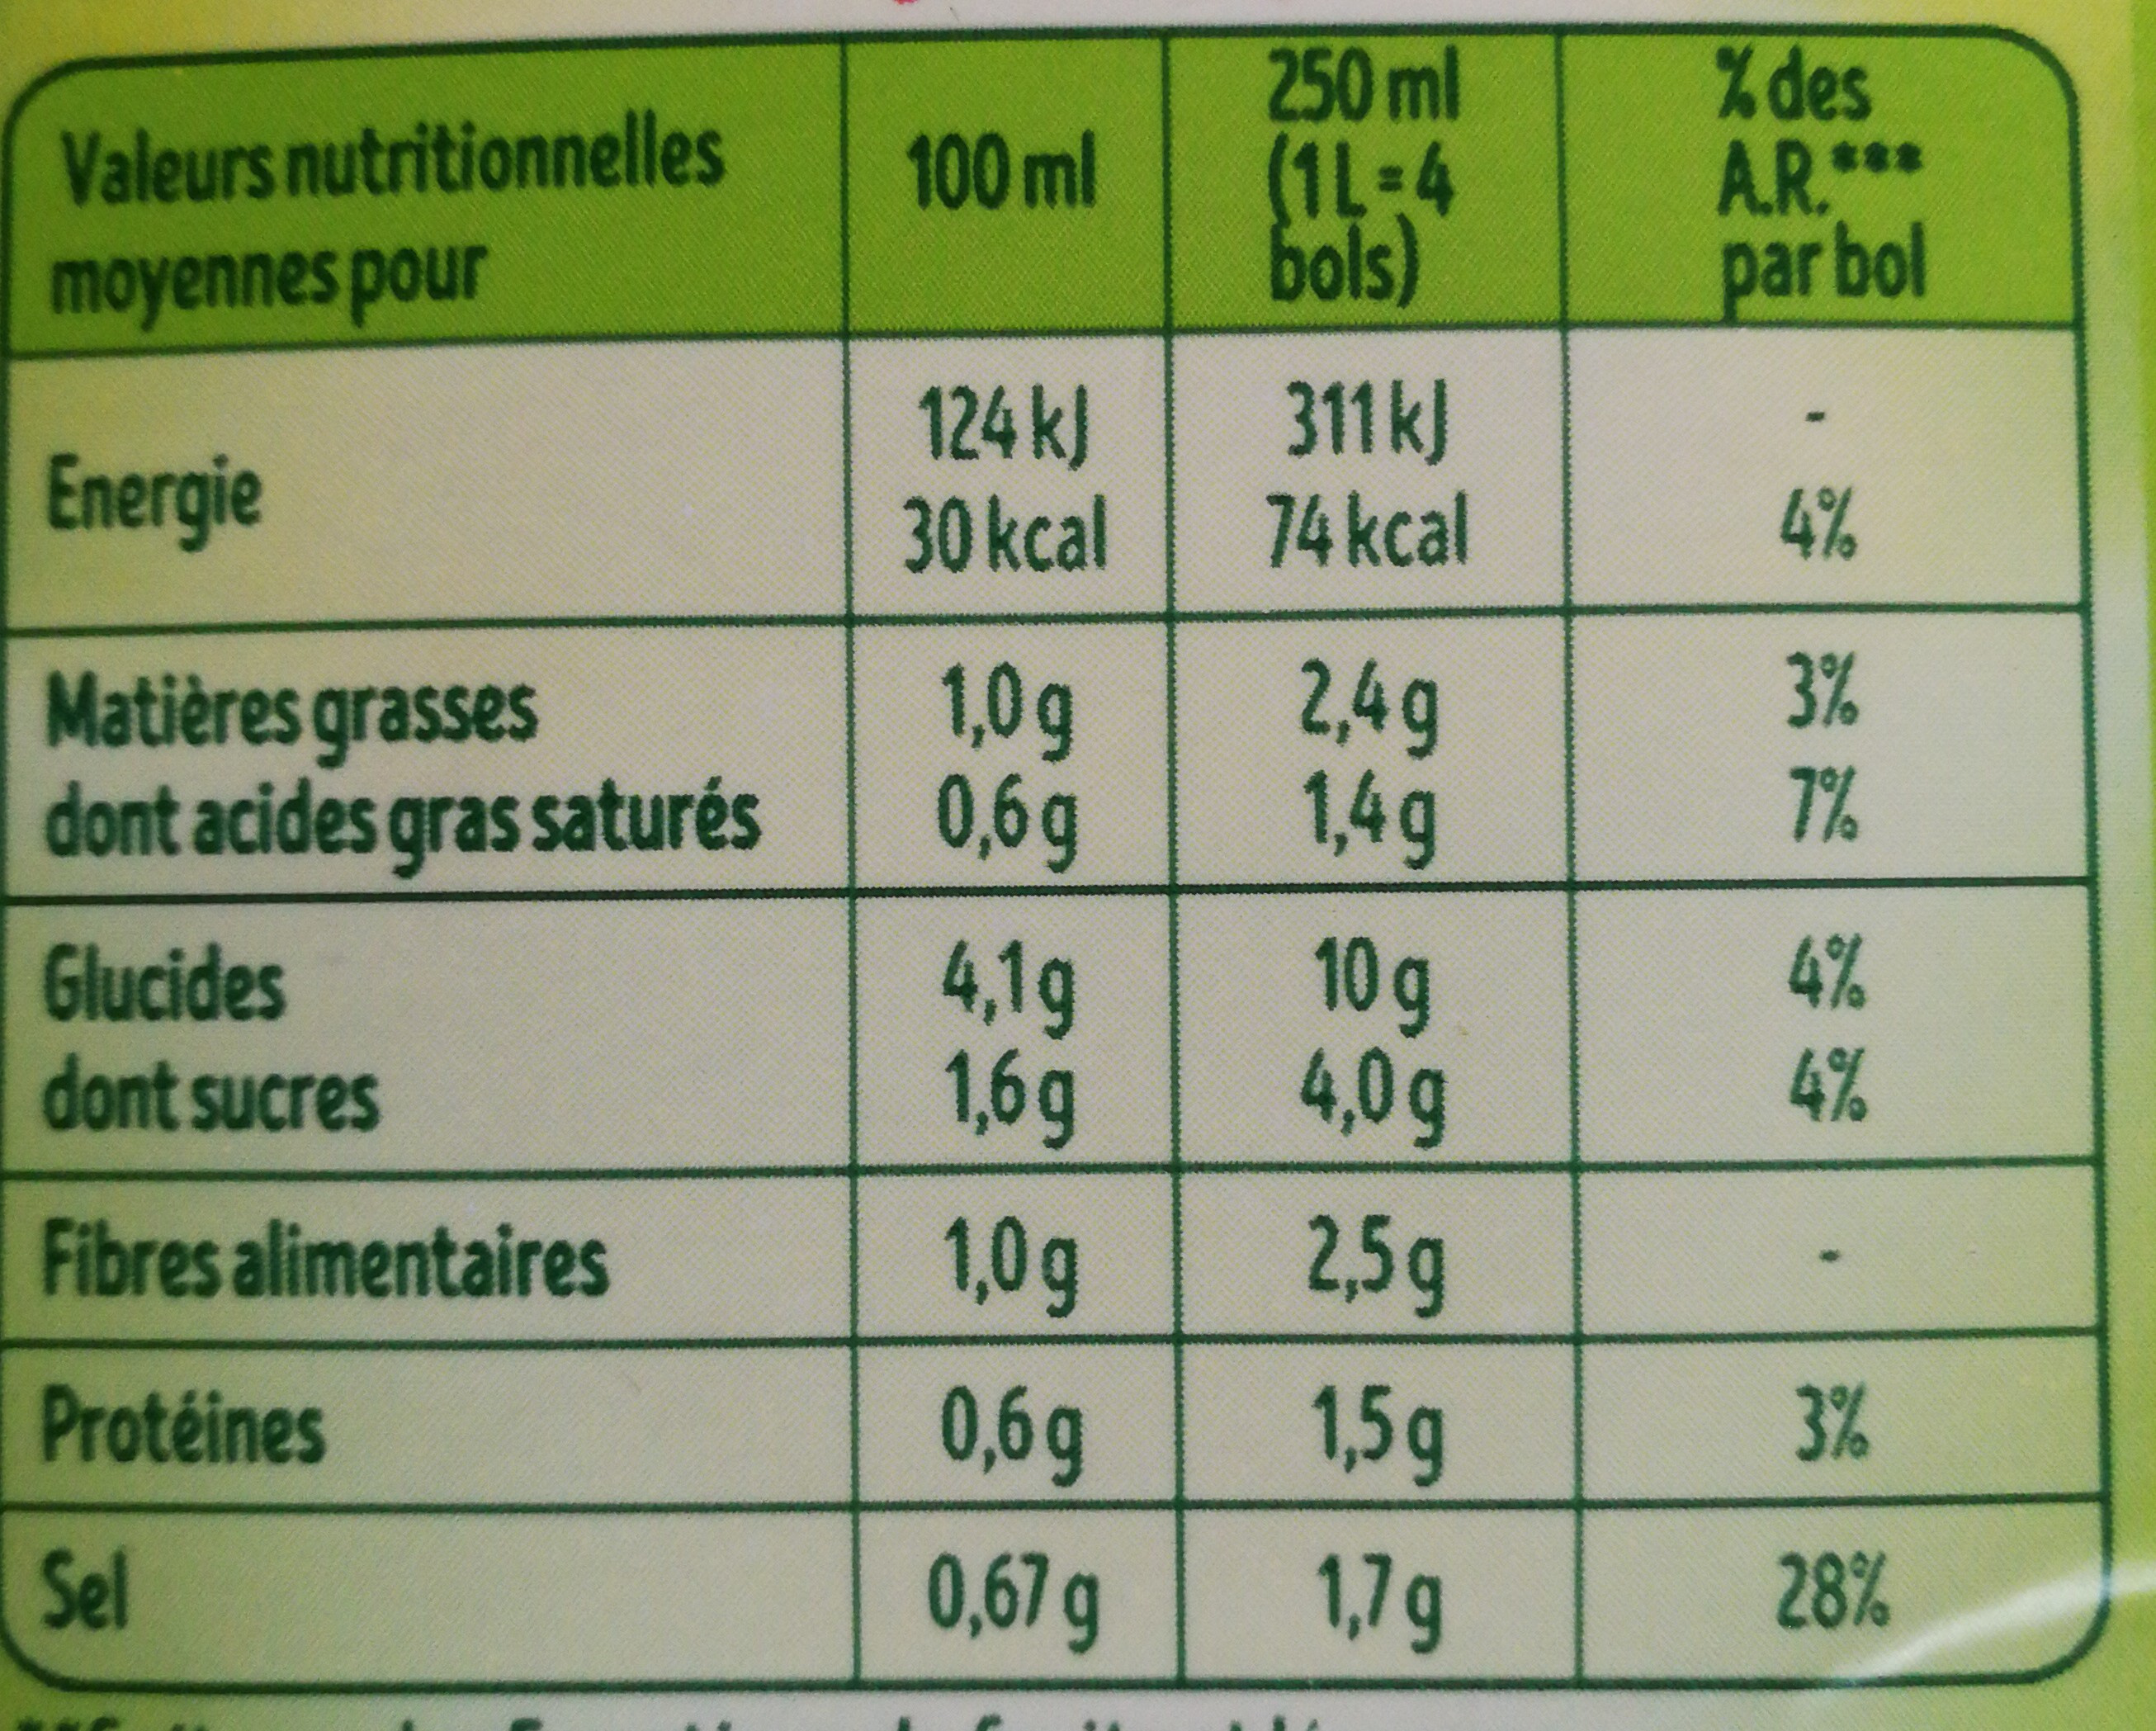column: (5, 51, 832, 1680), (1600, 42, 2022, 1671), (1192, 39, 1556, 1680), (858, 48, 1167, 1674)
table: (4, 46, 2121, 1683)
